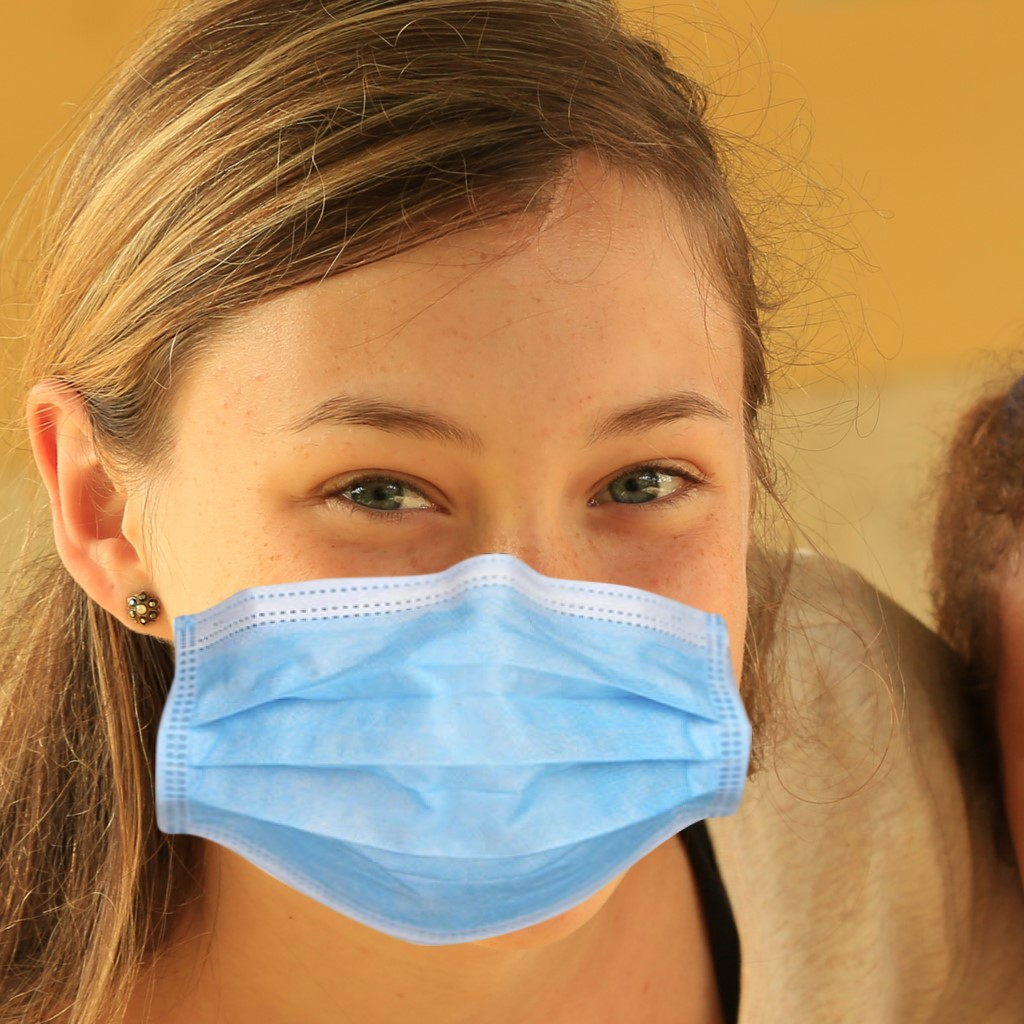con_mascara: (61, 42, 752, 947)
